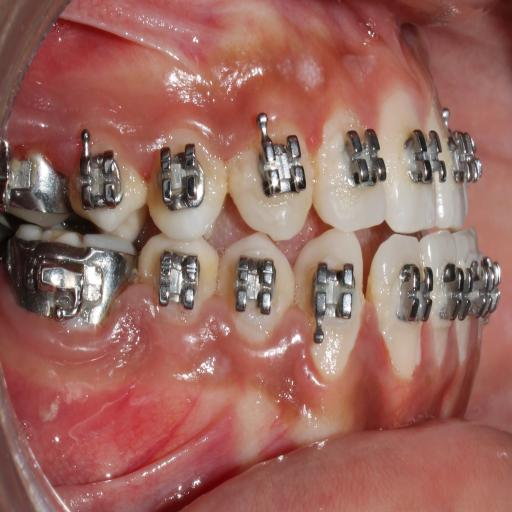correct_brace: (148, 123, 227, 235), (139, 230, 219, 337), (256, 134, 308, 198), (311, 256, 356, 327), (402, 122, 450, 188), (233, 254, 278, 318), (340, 127, 385, 187), (156, 250, 203, 307), (398, 257, 433, 328)
incorrect_brace: (294, 223, 363, 380), (315, 108, 382, 235), (157, 143, 212, 211)
